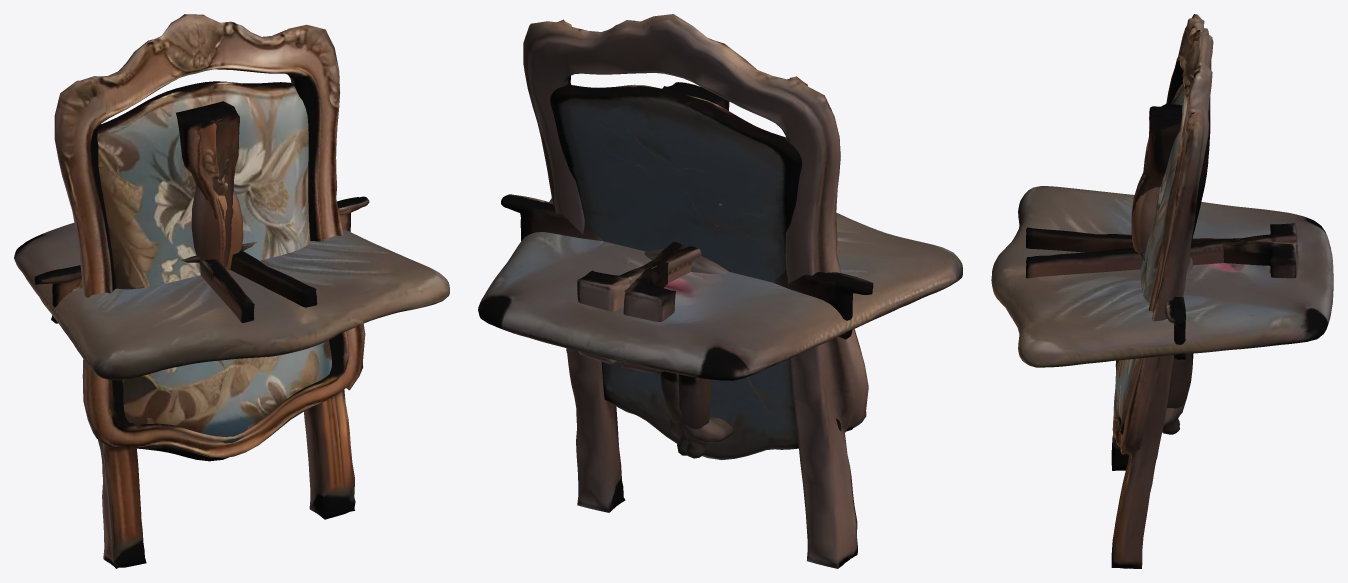
3 renders of one model, left to right at view 1: azimuth 30°, elevation 25°; view 2: azimuth 150°, elevation 25°; view 3: azimuth 270°, elevation 25°, orthographic. The views are drawn at different scales.
Visible parts, largest first — view 1: root.0.0, root.2, root.1, root.5, root.4, root.6, root.3, root.7; view 2: root.0.0, root.2, root.1, root.3, root.7, root.6, root.4, root.5; view 3: root.1, root.0.0, root.7, root.6, root.2, root.5, root.4, root.3.
Part boxes in pixels (bbox=[...]): root.0.0: bbox=[54, 14, 365, 568]; root.2: bbox=[97, 81, 331, 461]; root.1: bbox=[14, 223, 449, 380]; root.5: bbox=[191, 101, 239, 268]; root.4: bbox=[176, 107, 243, 270]; root.6: bbox=[230, 250, 317, 307]; root.3: bbox=[34, 196, 369, 323]; root.7: bbox=[200, 259, 254, 322]; root.0.0: bbox=[523, 14, 868, 568]; root.2: bbox=[550, 84, 841, 459]; root.1: bbox=[478, 198, 962, 380]; root.3: bbox=[501, 194, 873, 339]; root.7: bbox=[577, 246, 701, 365]; root.6: bbox=[621, 242, 684, 373]; root.4: bbox=[669, 86, 729, 455]; root.5: bbox=[660, 82, 733, 458]; root.1: bbox=[991, 186, 1333, 367]; root.0.0: bbox=[1111, 14, 1213, 568]; root.7: bbox=[1026, 227, 1298, 278]; root.6: bbox=[1026, 223, 1298, 278]; root.2: bbox=[1114, 83, 1210, 449]; root.5: bbox=[1131, 113, 1193, 424]; root.4: bbox=[1131, 103, 1186, 434]; root.3: bbox=[1141, 252, 1185, 359].
Size of the model in its own units: 25469 by 34153 by 22077.
Materials: 1 (1 with a texture image).
